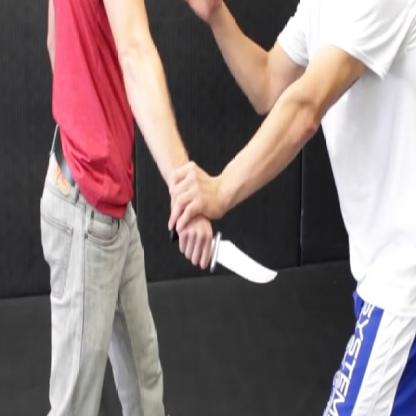knife: (167, 221, 282, 298)
